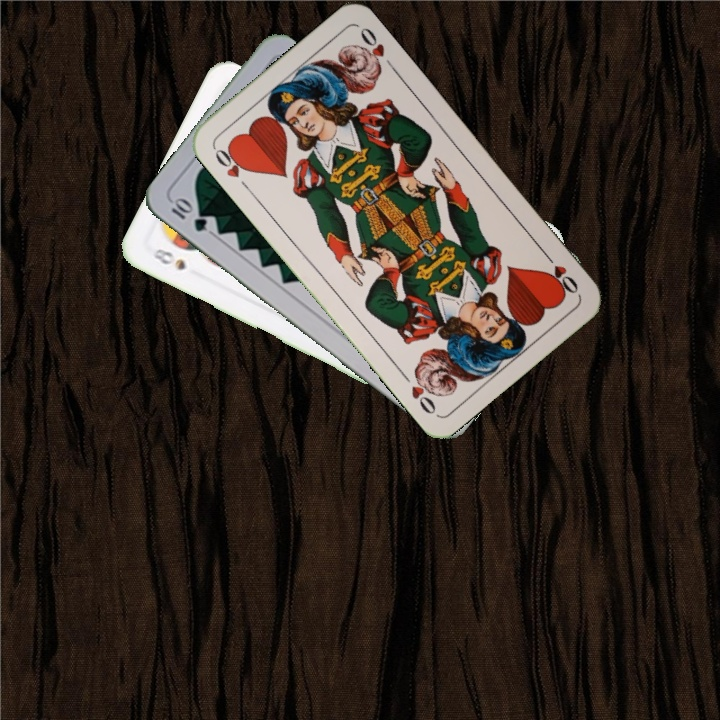G10: (167, 194, 210, 235)
HO: (210, 142, 253, 193), (539, 247, 581, 297)
S8: (148, 244, 189, 273)
